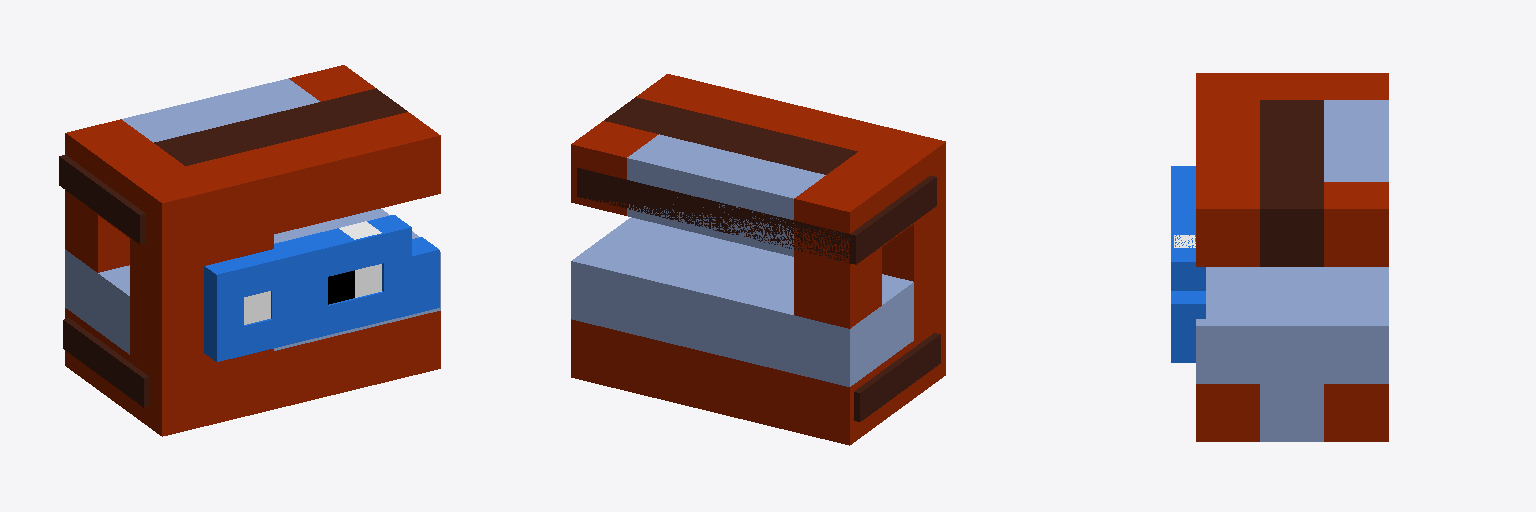
The picture shows the model from 3 angles: view 1: azimuth 30°, elevation 25°; view 2: azimuth 150°, elevation 25°; view 3: azimuth 270°, elevation 25°; orthographic projection.
Visible parts, largest first — view 1: Model; view 2: Model; view 3: Model.
Part boxes in pixels (left/top/right/bottom): Model: left=59, top=65, right=440, bottom=436; Model: left=571, top=74, right=945, bottom=445; Model: left=1171, top=73, right=1388, bottom=441.
Size of the model in its own units: 20.45 by 16 by 13.5.
Materials: 1 (1 with a texture image).